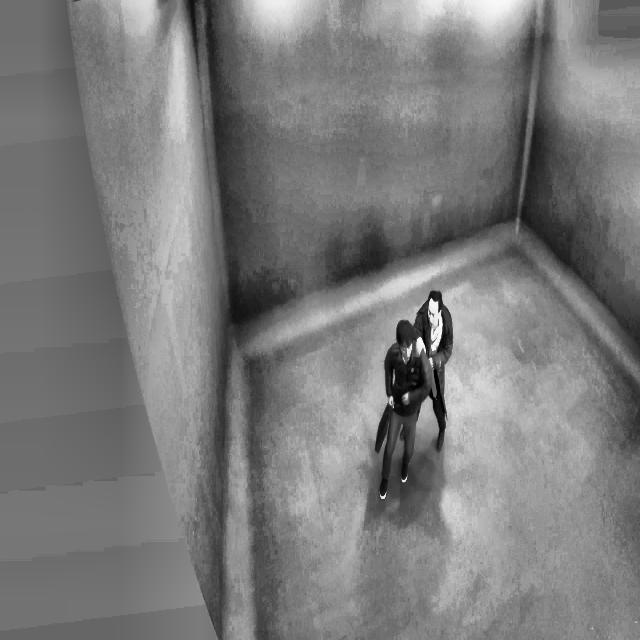assult: (376, 287, 456, 505), (391, 292, 449, 411)
